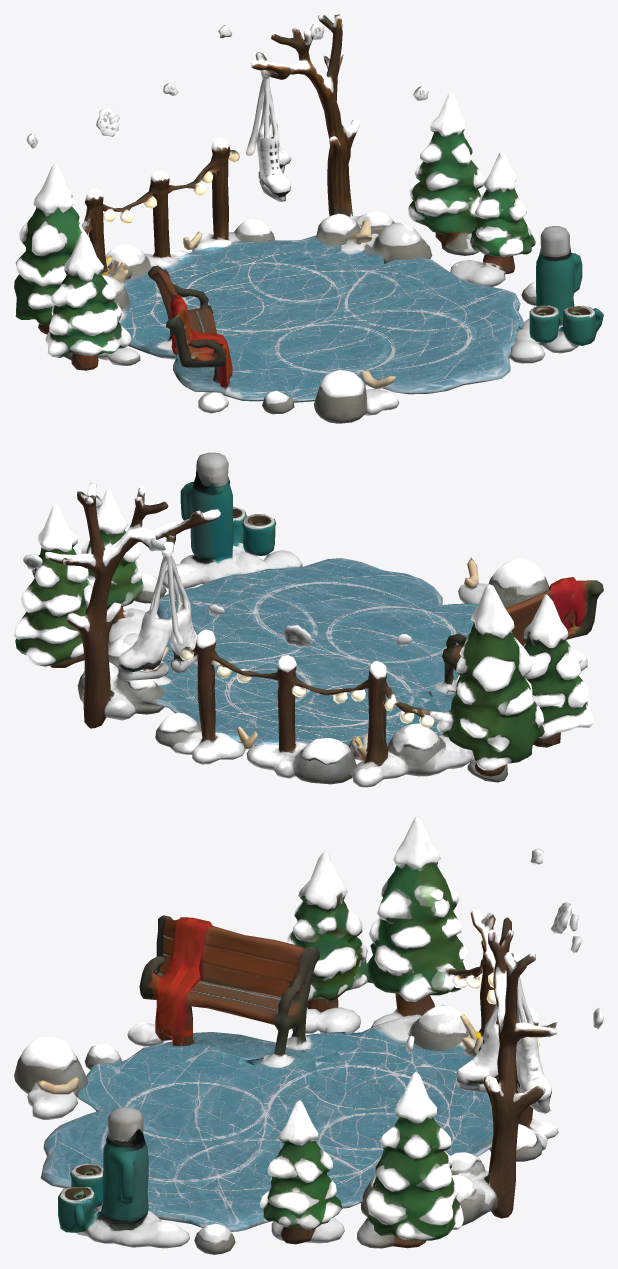
File: konki2.glb
3 renders of one model, top to bottom at view 1: azimuth 30°, elevation 25°; view 2: azimuth 150°, elevation 25°; view 3: azimuth 270°, elevation 25°, orthographic. The views are drawn at different scales.
Parts seen in each view (by area): view 1: mesh_node; view 2: mesh_node; view 3: mesh_node.
Part boxes in pixels (x1,y1,x2,y2): mesh_node: [14, 14, 603, 423]; mesh_node: [14, 452, 603, 787]; mesh_node: [14, 816, 603, 1254].
Size of the model in its own units: 1.9 by 0.8767 by 1.73.
1 material, 1 textured.
